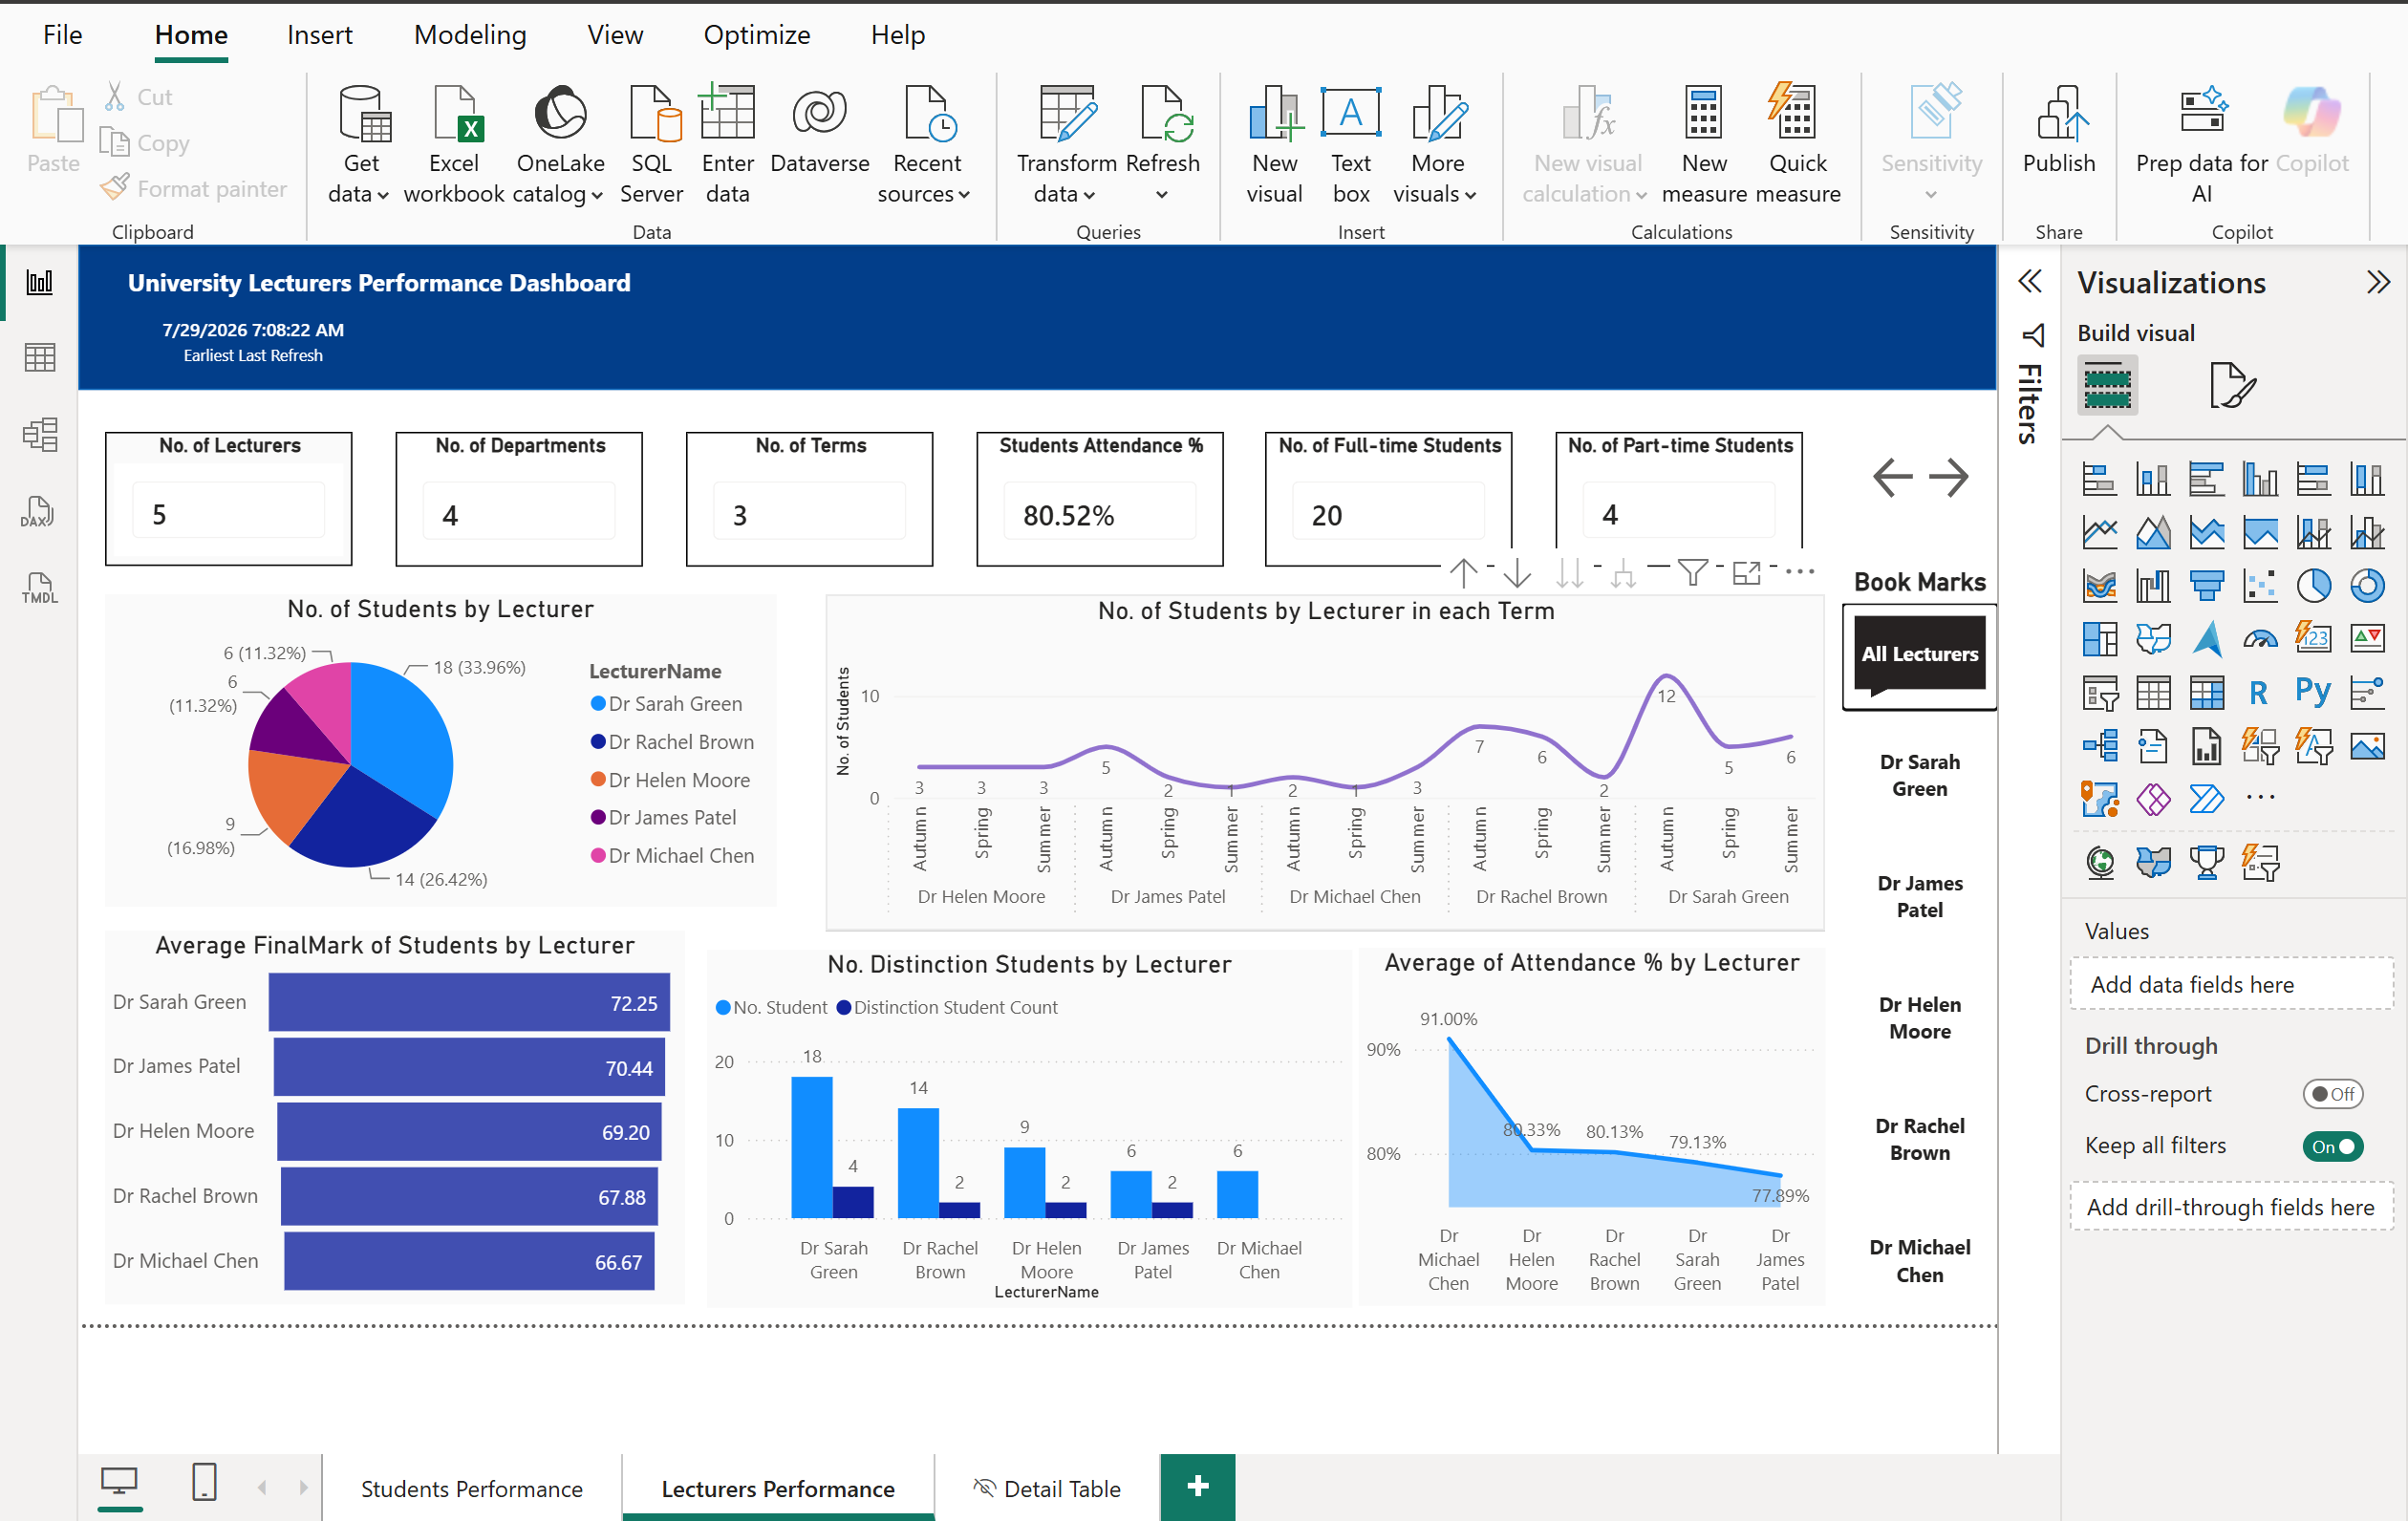

What the dashboard file says about the page in this screenshot:
{"tool":"powerbi","page":{"name":"Lecturers Performance","canvas":[1280,720],"ordinal":1},"visuals":[{"type":"shape","box":[0,0,1279.7,97.1],"z":0},{"type":"actionButton","box":[1229,124.6,36.2,60.9],"z":0,"group":"g2"},{"type":"cardVisual","title":"No. of Lecturers","fields":{"Data":["Count(UniLecturers.LecturerID)"]},"box":[17.4,124.9,165.1,89.4],"z":0,"group":"g1"},{"type":"cardVisual","fields":{"Data":["Min(Toronto TimeZone Refresh.Last Refresh)"]},"box":[17.8,31.9,198.9,65],"z":1000},{"type":"cardVisual","title":"No. of Departments","fields":{"Data":["Count(UniLecturers.Department)"]},"box":[211,124.6,165.1,90],"z":1000,"group":"g1"},{"type":"actionButton","box":[1192.8,124.6,36.2,60.9],"z":1000,"group":"g2"},{"type":"group","id":"g1","title":"Group 1","box":[17.4,124.6,1133.3,91.3],"z":2000},{"type":"cardVisual","title":"No. of Terms","fields":{"Data":["Count(UniEnrolments.TermID)"]},"box":[404.6,124.6,165.1,90],"z":2000,"group":"g1"},{"type":"cardVisual","title":"Students Attendance % ","fields":{"Data":["Avg(UniEnrolments.AttendancePct)"]},"box":[598.3,124.6,165.1,90],"z":3000,"group":"g1"},{"type":"bookmarkNavigator","title":"Book Marks","box":[1176.8,215.9,104.3,505.8],"z":3000},{"type":"group","id":"g2","title":"Group 2","box":[1192.8,124.6,72.5,60.9],"z":4000},{"type":"cardVisual","title":"No. of Part-time Students","fields":{"Data":["Count(UniEnrolments.StudentID)"]},"box":[985.5,124.7,165.2,89.9],"z":4000,"group":"g1"},{"type":"cardVisual","title":"No. of Full-time Students","fields":{"Data":["Count(UniEnrolments.StudentID)"]},"box":[791.9,124.6,165.1,90],"z":5000,"group":"g1"},{"type":"lineChart","title":"No. of Students by Lecturer in each Term","fields":{"Y":["Count(UniEnrolments.StudentID)"],"Category":["UniLecturers.LecturerName","UniTerms.TermName"]},"box":[498.6,233.3,666.7,224.6],"z":5000},{"type":"textbox","box":[27.5,8.7,391.3,47.8],"z":5501},{"type":"pieChart","title":"No. of Students by Lecturer","fields":{"Category":["UniLecturers.LecturerName"],"Y":["Count(UniEnrolments.StudentID)"]},"box":[17.4,233.3,447.8,208.7],"z":5502},{"type":"funnel","title":"Average FinalMark of Students by Lecturer","fields":{"Category":["UniLecturers.LecturerName"],"Y":["Avg(UniEnrolments.FinalMark)"]},"box":[17.4,458,387,249.3],"z":5503},{"type":"clusteredColumnChart","title":"No. Distinction Students by Lecturer","fields":{"Category":["UniLecturers.LecturerName"],"Y":["Count(UniEnrolments.StudentID)","UniEnrolments.Distinction Student Count"]},"box":[418.8,471,430.4,239.1],"z":5504},{"type":"areaChart","title":"Average of Attendance % by Lecturer","fields":{"Category":["UniLecturers.LecturerName"],"Y":["Avg(UniEnrolments.AttendancePct)"]},"box":[853.6,469.6,311.6,239.1],"z":5505}]}

Visuals, with their boxes on the page's 1280x720 design canvas (x1, y1, x2, y2). These are canvas units, not pixel positions in the 2408x1521 screenshot, which may show the page scaled, cropped or inside an application window:
shape: detection(0, 0, 1280, 97)
actionButton: detection(1229, 125, 1265, 186)
"No. of Lecturers" cardVisual: detection(17, 125, 182, 214)
cardVisual - Min(Toronto TimeZone Refresh.Last Refresh): detection(18, 32, 217, 97)
"No. of Departments" cardVisual: detection(211, 125, 376, 215)
actionButton: detection(1193, 125, 1229, 186)
"Group 1" group: detection(17, 125, 1151, 216)
"No. of Terms" cardVisual: detection(405, 125, 570, 215)
"Students Attendance % " cardVisual: detection(598, 125, 763, 215)
"Book Marks" bookmarkNavigator: detection(1177, 216, 1281, 722)
"Group 2" group: detection(1193, 125, 1265, 186)
"No. of Part-time Students" cardVisual: detection(986, 125, 1151, 215)
"No. of Full-time Students" cardVisual: detection(792, 125, 957, 215)
"No. of Students by Lecturer in each Term" lineChart: detection(499, 233, 1165, 458)
textbox: detection(28, 9, 419, 56)
"No. of Students by Lecturer" pieChart: detection(17, 233, 465, 442)
"Average FinalMark of Students by Lecturer" funnel: detection(17, 458, 404, 707)
"No. Distinction Students by Lecturer" clusteredColumnChart: detection(419, 471, 849, 710)
"Average of Attendance % by Lecturer" areaChart: detection(854, 470, 1165, 709)
